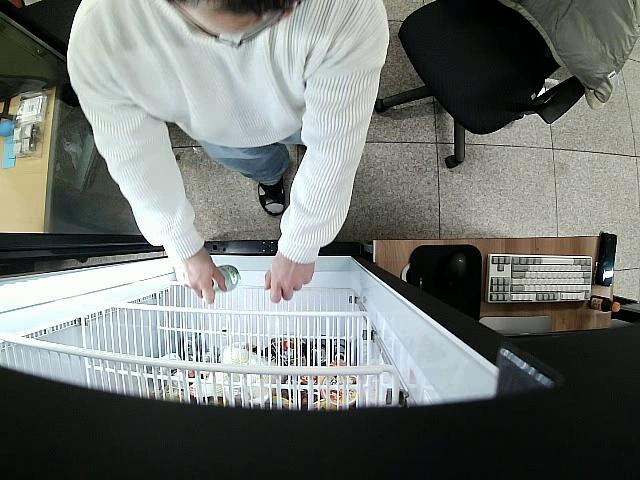00_hand: (176, 254, 227, 304), (264, 256, 313, 301)
18_trevi: (210, 263, 243, 294)
